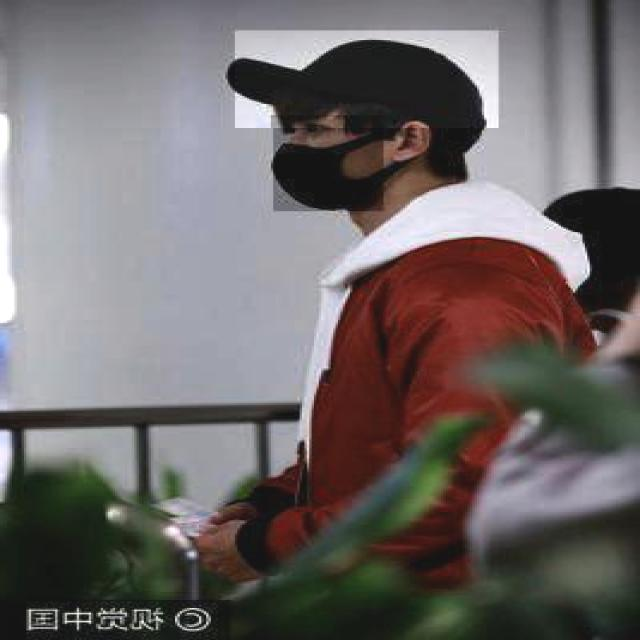face_mask: (271, 115, 383, 213)
hand_noglove: (182, 494, 273, 584)
head_nohelmet: (232, 30, 498, 130)
person: (152, 29, 591, 602)
